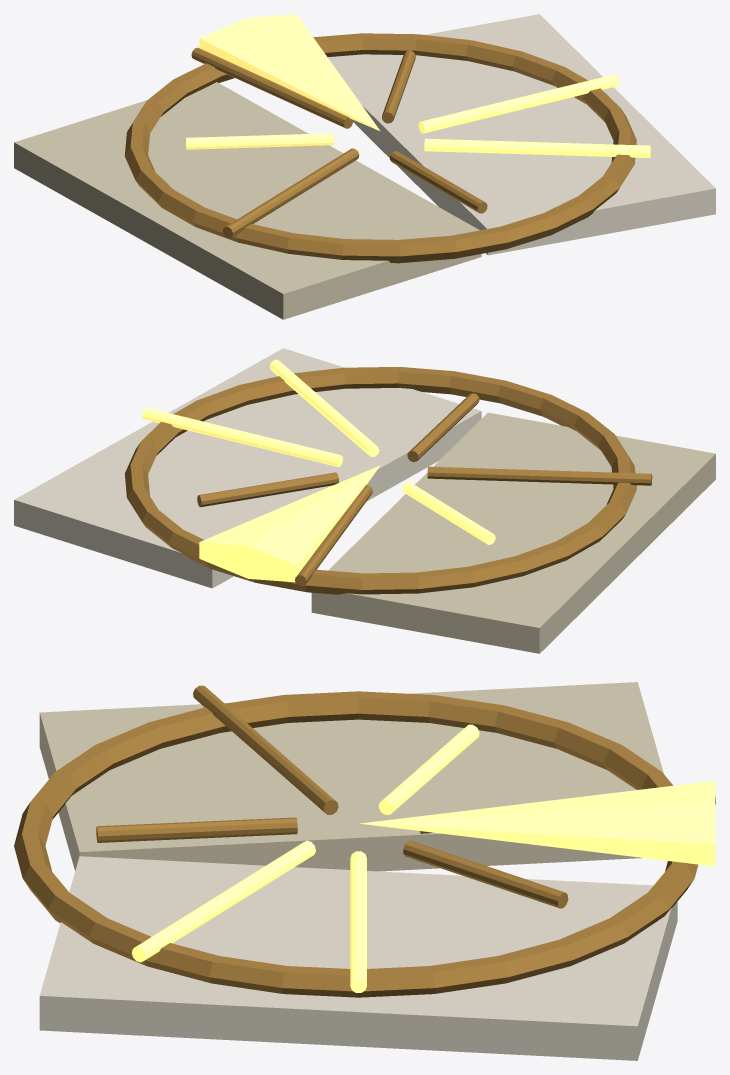
The model's file is runtime.glb.
The picture shows the model from 3 angles, top to bottom: view 1: azimuth 30°, elevation 25°; view 2: azimuth 150°, elevation 25°; view 3: azimuth 270°, elevation 25°; orthographic projection. The views are drawn at different scales.
Visible parts, largest first — view 1: aetherion-astronomical-medallion-v05_field_west_nocol, aetherion-astronomical-medallion-v05_field_east_nocol, aetherion-astronomical-medallion-v05_outer_meridian_nocol, aetherion-astronomical-medallion-v05_north_pointer_nocol, aetherion-astronomical-medallion-v05_bearing_06_nocol, aetherion-astronomical-medallion-v05_bearing_00_nocol, aetherion-astronomical-medallion-v05_bearing_02_nocol, aetherion-astronomical-medallion-v05_bearing_04_nocol, aetherion-astronomical-medallion-v05_bearing_03_nocol, aetherion-astronomical-medallion-v05_bearing_05_nocol, aetherion-astronomical-medallion-v05_bearing_01_nocol; view 2: aetherion-astronomical-medallion-v05_field_west_nocol, aetherion-astronomical-medallion-v05_field_east_nocol, aetherion-astronomical-medallion-v05_outer_meridian_nocol, aetherion-astronomical-medallion-v05_north_pointer_nocol, aetherion-astronomical-medallion-v05_bearing_04_nocol, aetherion-astronomical-medallion-v05_bearing_00_nocol, aetherion-astronomical-medallion-v05_bearing_01_nocol, aetherion-astronomical-medallion-v05_bearing_06_nocol, aetherion-astronomical-medallion-v05_bearing_02_nocol, aetherion-astronomical-medallion-v05_bearing_03_nocol, aetherion-astronomical-medallion-v05_bearing_05_nocol; view 3: aetherion-astronomical-medallion-v05_field_east_nocol, aetherion-astronomical-medallion-v05_field_west_nocol, aetherion-astronomical-medallion-v05_outer_meridian_nocol, aetherion-astronomical-medallion-v05_north_pointer_nocol, aetherion-astronomical-medallion-v05_bearing_06_nocol, aetherion-astronomical-medallion-v05_bearing_05_nocol, aetherion-astronomical-medallion-v05_bearing_04_nocol, aetherion-astronomical-medallion-v05_bearing_01_nocol, aetherion-astronomical-medallion-v05_bearing_00_nocol, aetherion-astronomical-medallion-v05_bearing_03_nocol.
Boxes of the visible parts, x1,y1,x2,y2 form: aetherion-astronomical-medallion-v05_field_west_nocol: (14, 82, 481, 319); aetherion-astronomical-medallion-v05_field_east_nocol: (328, 14, 715, 255); aetherion-astronomical-medallion-v05_outer_meridian_nocol: (124, 33, 636, 263); aetherion-astronomical-medallion-v05_north_pointer_nocol: (199, 14, 380, 131); aetherion-astronomical-medallion-v05_bearing_06_nocol: (424, 138, 650, 157); aetherion-astronomical-medallion-v05_bearing_00_nocol: (418, 74, 619, 133); aetherion-astronomical-medallion-v05_bearing_02_nocol: (191, 47, 353, 128); aetherion-astronomical-medallion-v05_bearing_04_nocol: (222, 148, 359, 237); aetherion-astronomical-medallion-v05_bearing_03_nocol: (186, 133, 334, 149); aetherion-astronomical-medallion-v05_bearing_05_nocol: (389, 151, 487, 213); aetherion-astronomical-medallion-v05_bearing_01_nocol: (382, 50, 415, 123); aetherion-astronomical-medallion-v05_field_west_nocol: (311, 412, 715, 653); aetherion-astronomical-medallion-v05_field_east_nocol: (14, 348, 481, 588); aetherion-astronomical-medallion-v05_outer_meridian_nocol: (125, 367, 636, 594); aetherion-astronomical-medallion-v05_north_pointer_nocol: (199, 465, 380, 582); aetherion-astronomical-medallion-v05_bearing_04_nocol: (427, 466, 652, 485); aetherion-astronomical-medallion-v05_bearing_00_nocol: (142, 407, 342, 467); aetherion-astronomical-medallion-v05_bearing_01_nocol: (197, 472, 338, 507); aetherion-astronomical-medallion-v05_bearing_06_nocol: (269, 359, 379, 456); aetherion-astronomical-medallion-v05_bearing_02_nocol: (295, 484, 372, 586); aetherion-astronomical-medallion-v05_bearing_03_nocol: (402, 482, 495, 544); aetherion-astronomical-medallion-v05_bearing_05_nocol: (407, 393, 479, 462); aetherion-astronomical-medallion-v05_field_east_nocol: (39, 856, 677, 1060); aetherion-astronomical-medallion-v05_field_west_nocol: (39, 682, 663, 871); aetherion-astronomical-medallion-v05_outer_meridian_nocol: (14, 691, 697, 997); aetherion-astronomical-medallion-v05_north_pointer_nocol: (360, 780, 715, 866); aetherion-astronomical-medallion-v05_bearing_06_nocol: (132, 840, 315, 962); aetherion-astronomical-medallion-v05_bearing_05_nocol: (96, 817, 297, 842); aetherion-astronomical-medallion-v05_bearing_04_nocol: (193, 685, 338, 814); aetherion-astronomical-medallion-v05_bearing_01_nocol: (403, 840, 568, 908); aetherion-astronomical-medallion-v05_bearing_00_nocol: (350, 851, 366, 992); aetherion-astronomical-medallion-v05_bearing_03_nocol: (378, 724, 479, 814).
Size of the model in its own units: 7.25 by 0.8573 by 6.25.
